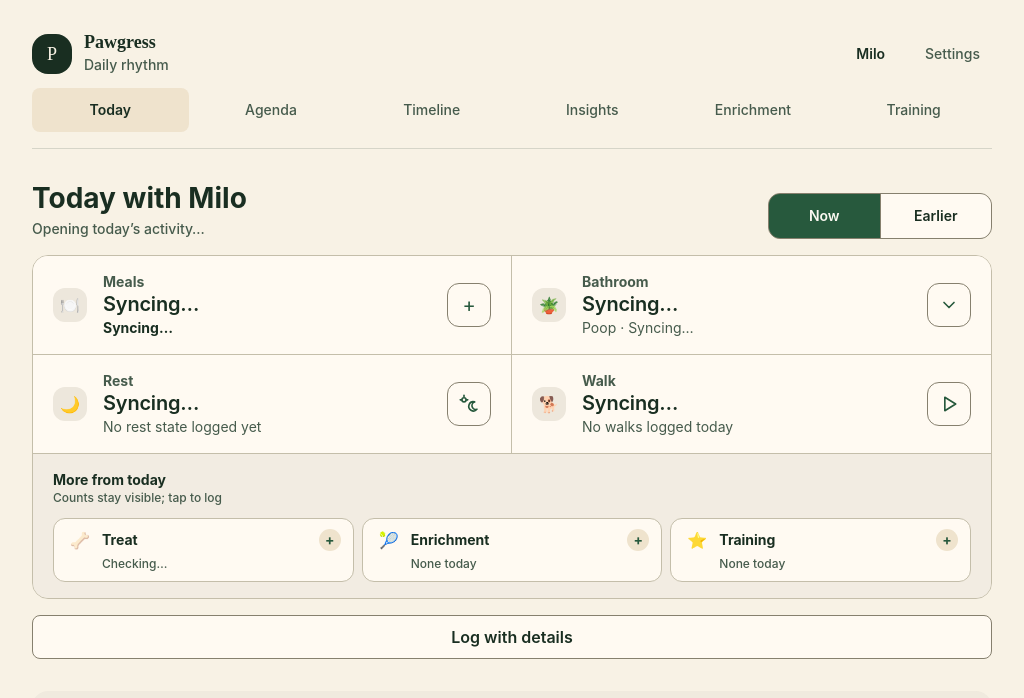
Test case: DashboardPage walk controls › maps INVALID_TIMESTAMP to the start field and retains its value
This screenshot has width=1024, height=698.
Click the button "Earlier" at (936,216), box [880,194,991,238]
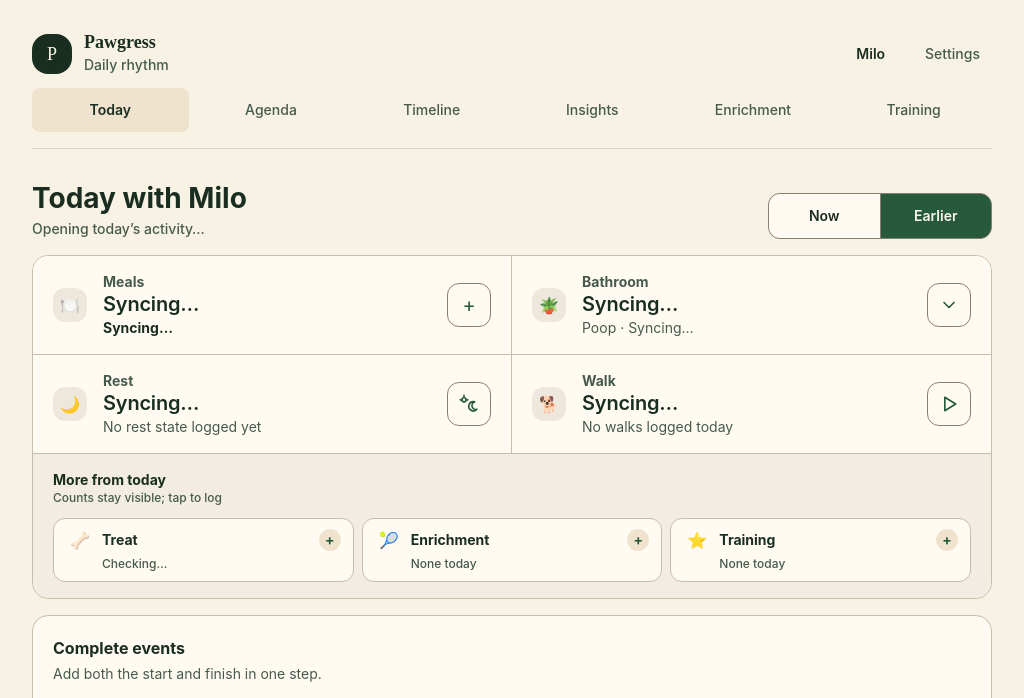
Click the button named "Start walk" at (949,404), box [927,382,971,426]
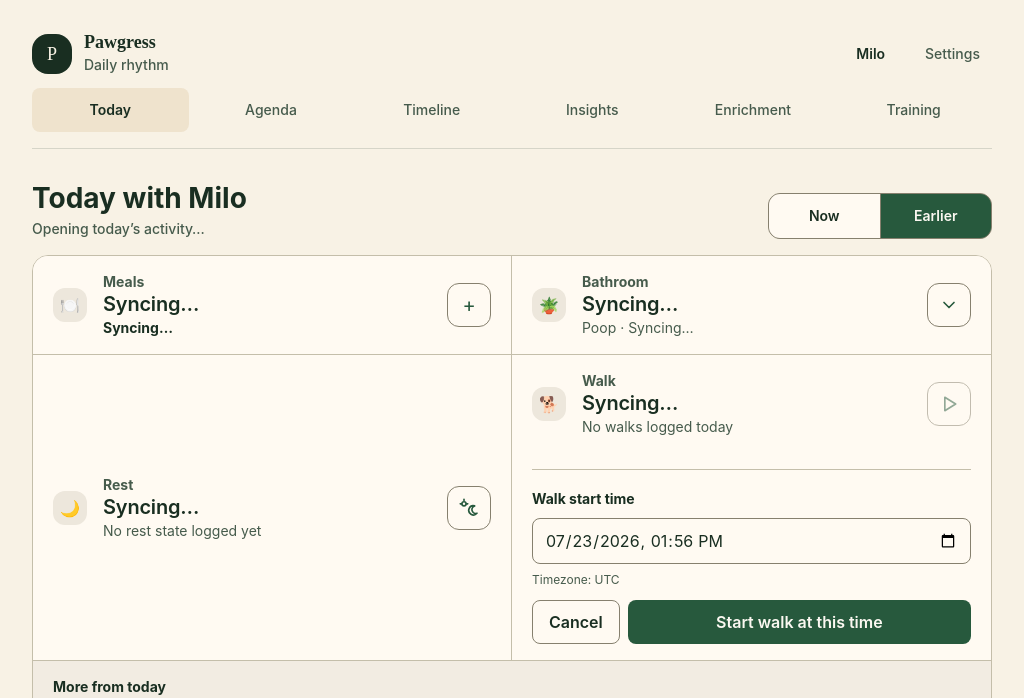
Replace the text in the field labelled "Walk start time" with "2026-07-08T20:15" at (752,541), box [532,518,971,564]
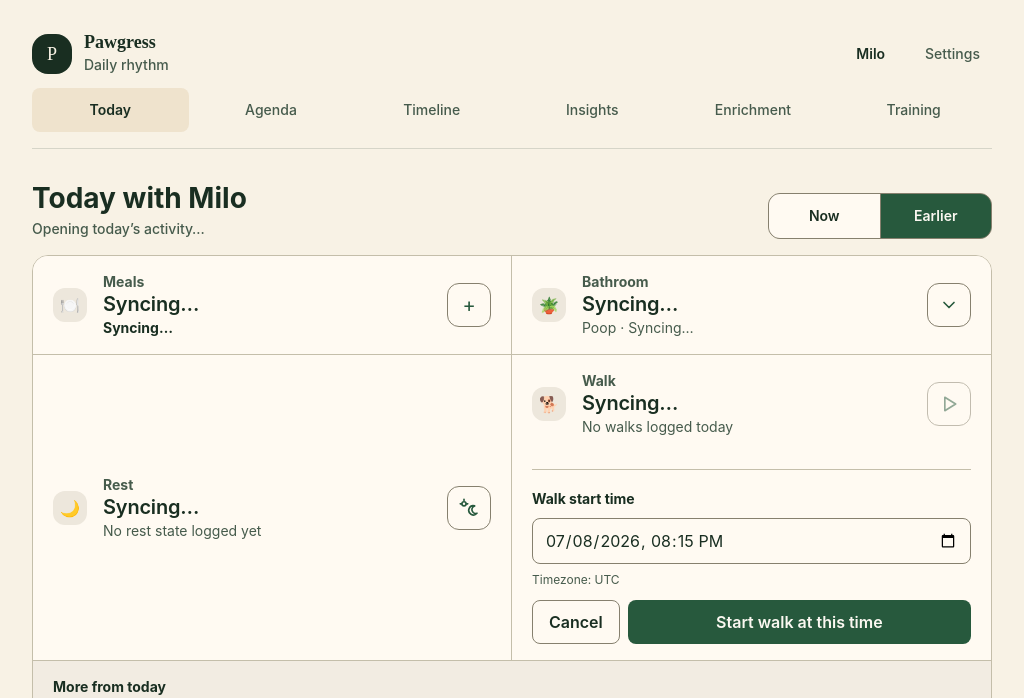
Click the button "Start walk at this time" at (799,622), box [628,600,971,644]
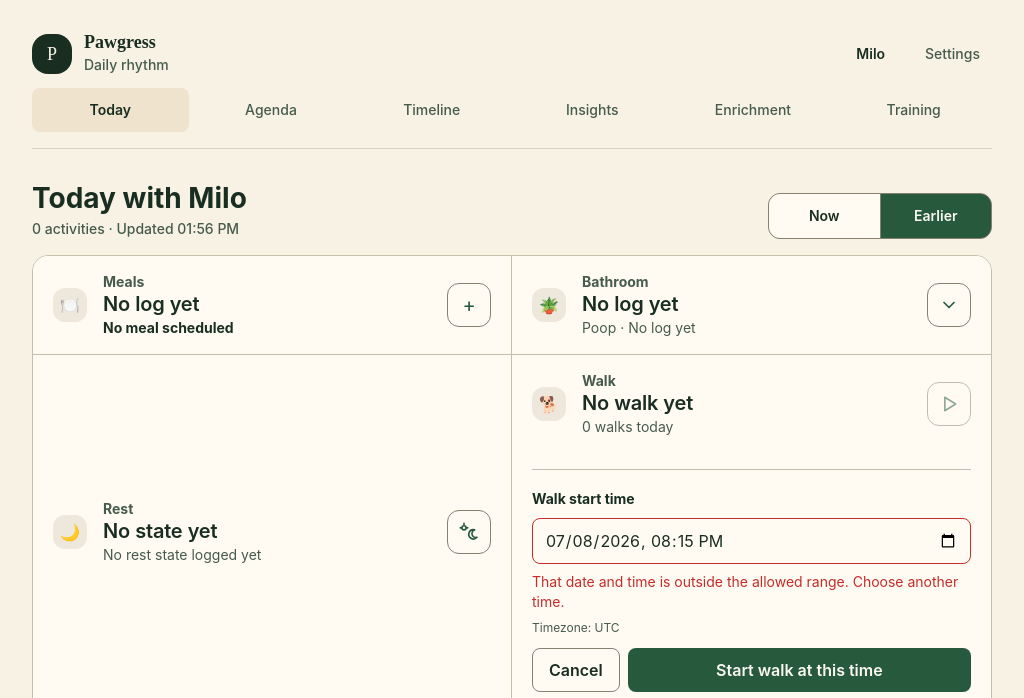
expect the text "That date and time is outside the allowed range. Choose another time." is shown: met, box [532,572,971,612]
